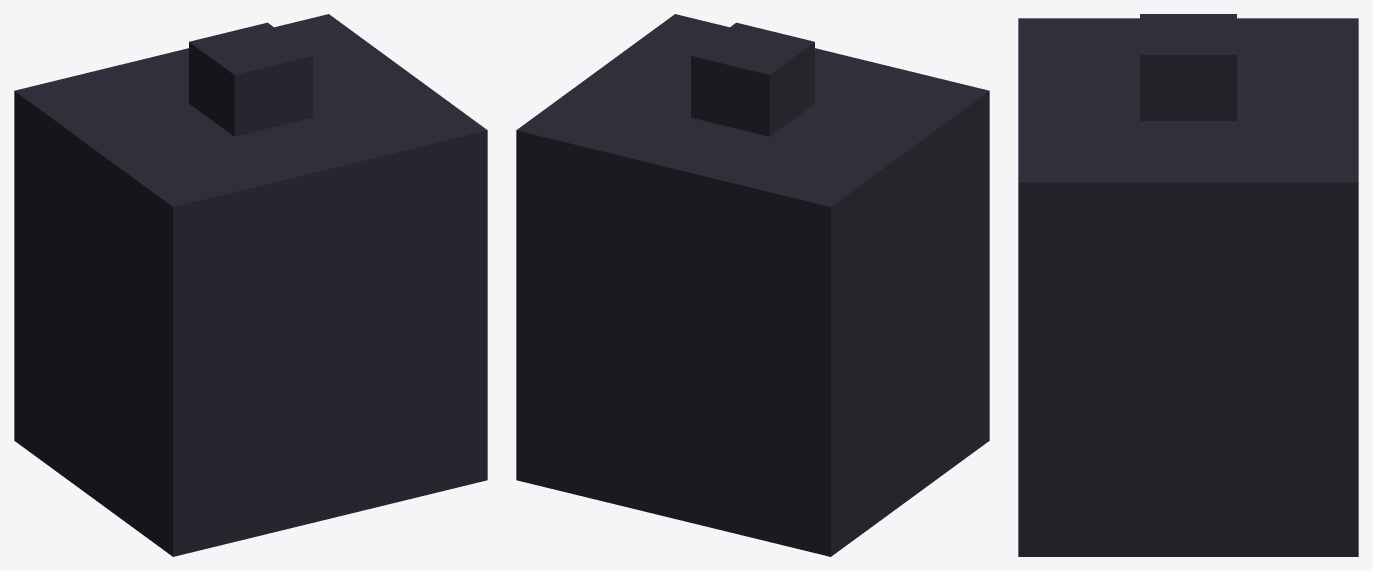
File: bag.glb
3 renders of one model, left to right at view 1: azimuth 30°, elevation 25°; view 2: azimuth 150°, elevation 25°; view 3: azimuth 270°, elevation 25°, orthographic. The views are drawn at different scales.
Parts seen in each view (by area): view 1: bag; view 2: bag; view 3: bag.
Part boxes in pixels (x1,y1,x2,y2): bag: (14, 14, 487, 556); bag: (516, 14, 989, 556); bag: (1018, 14, 1358, 556).
Size of the model in its own units: 0.16 by 0.2 by 0.14.
Materials: 1 (1 with a texture image).
